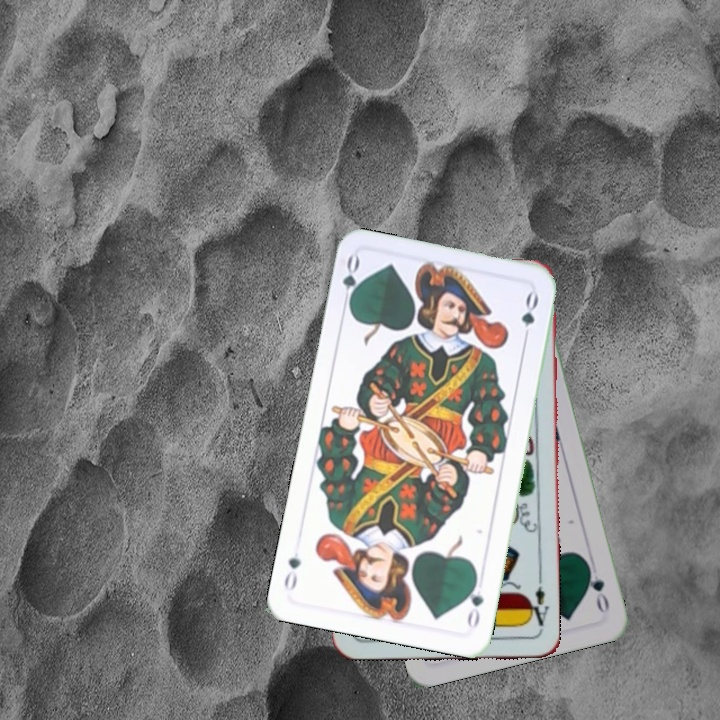EA: (524, 574, 551, 629)
GO: (583, 560, 612, 616), (338, 252, 364, 312), (463, 572, 487, 632)
